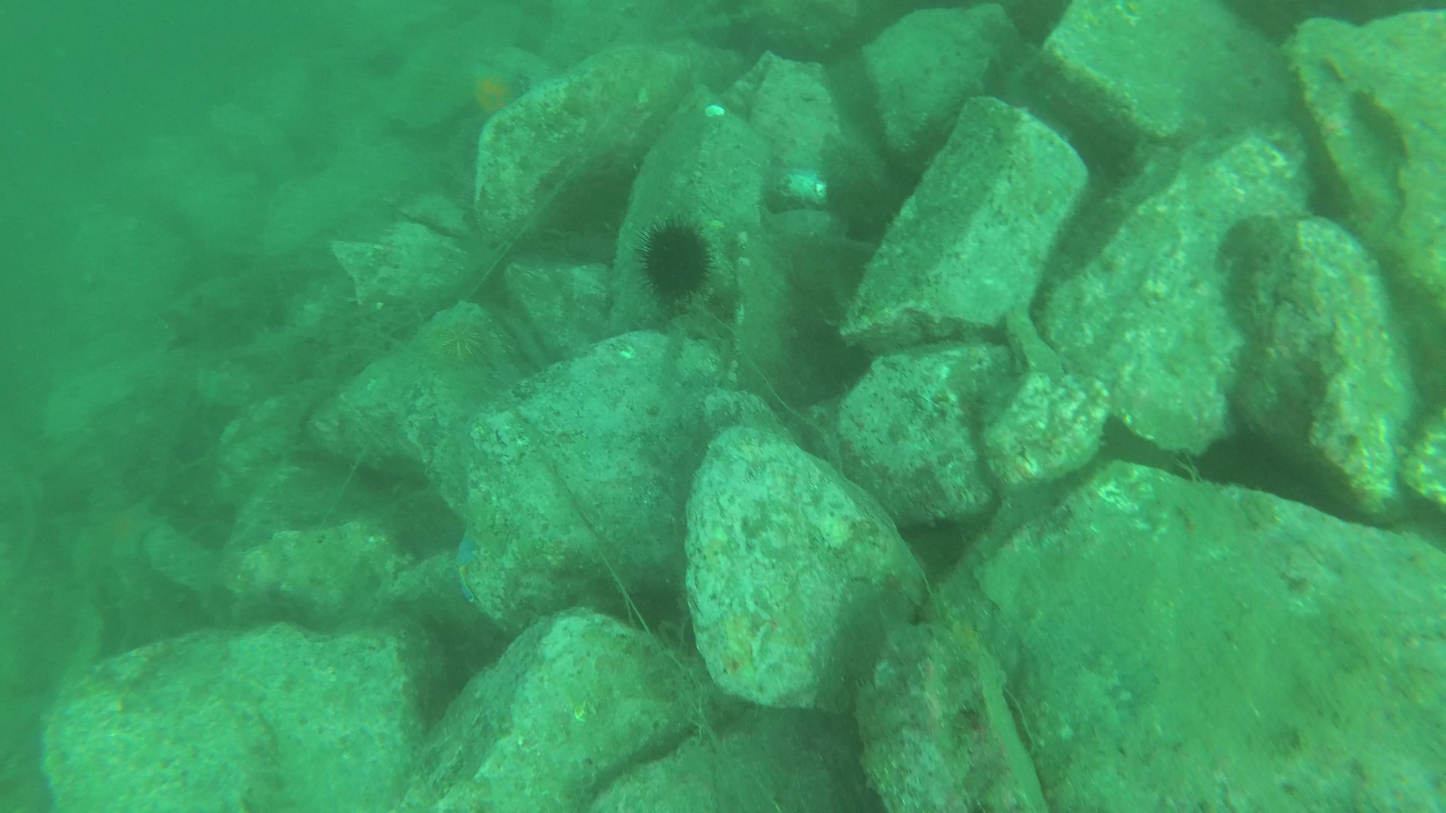holothurian: (455, 51, 538, 124), (447, 529, 484, 611)
starfish: (632, 215, 718, 308), (433, 308, 492, 369)
